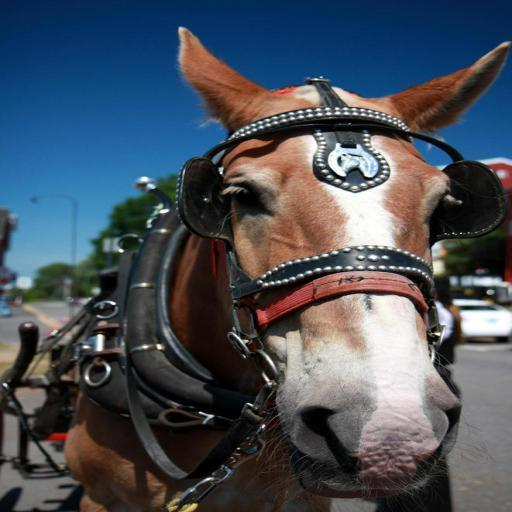horse: (58, 26, 512, 512)
